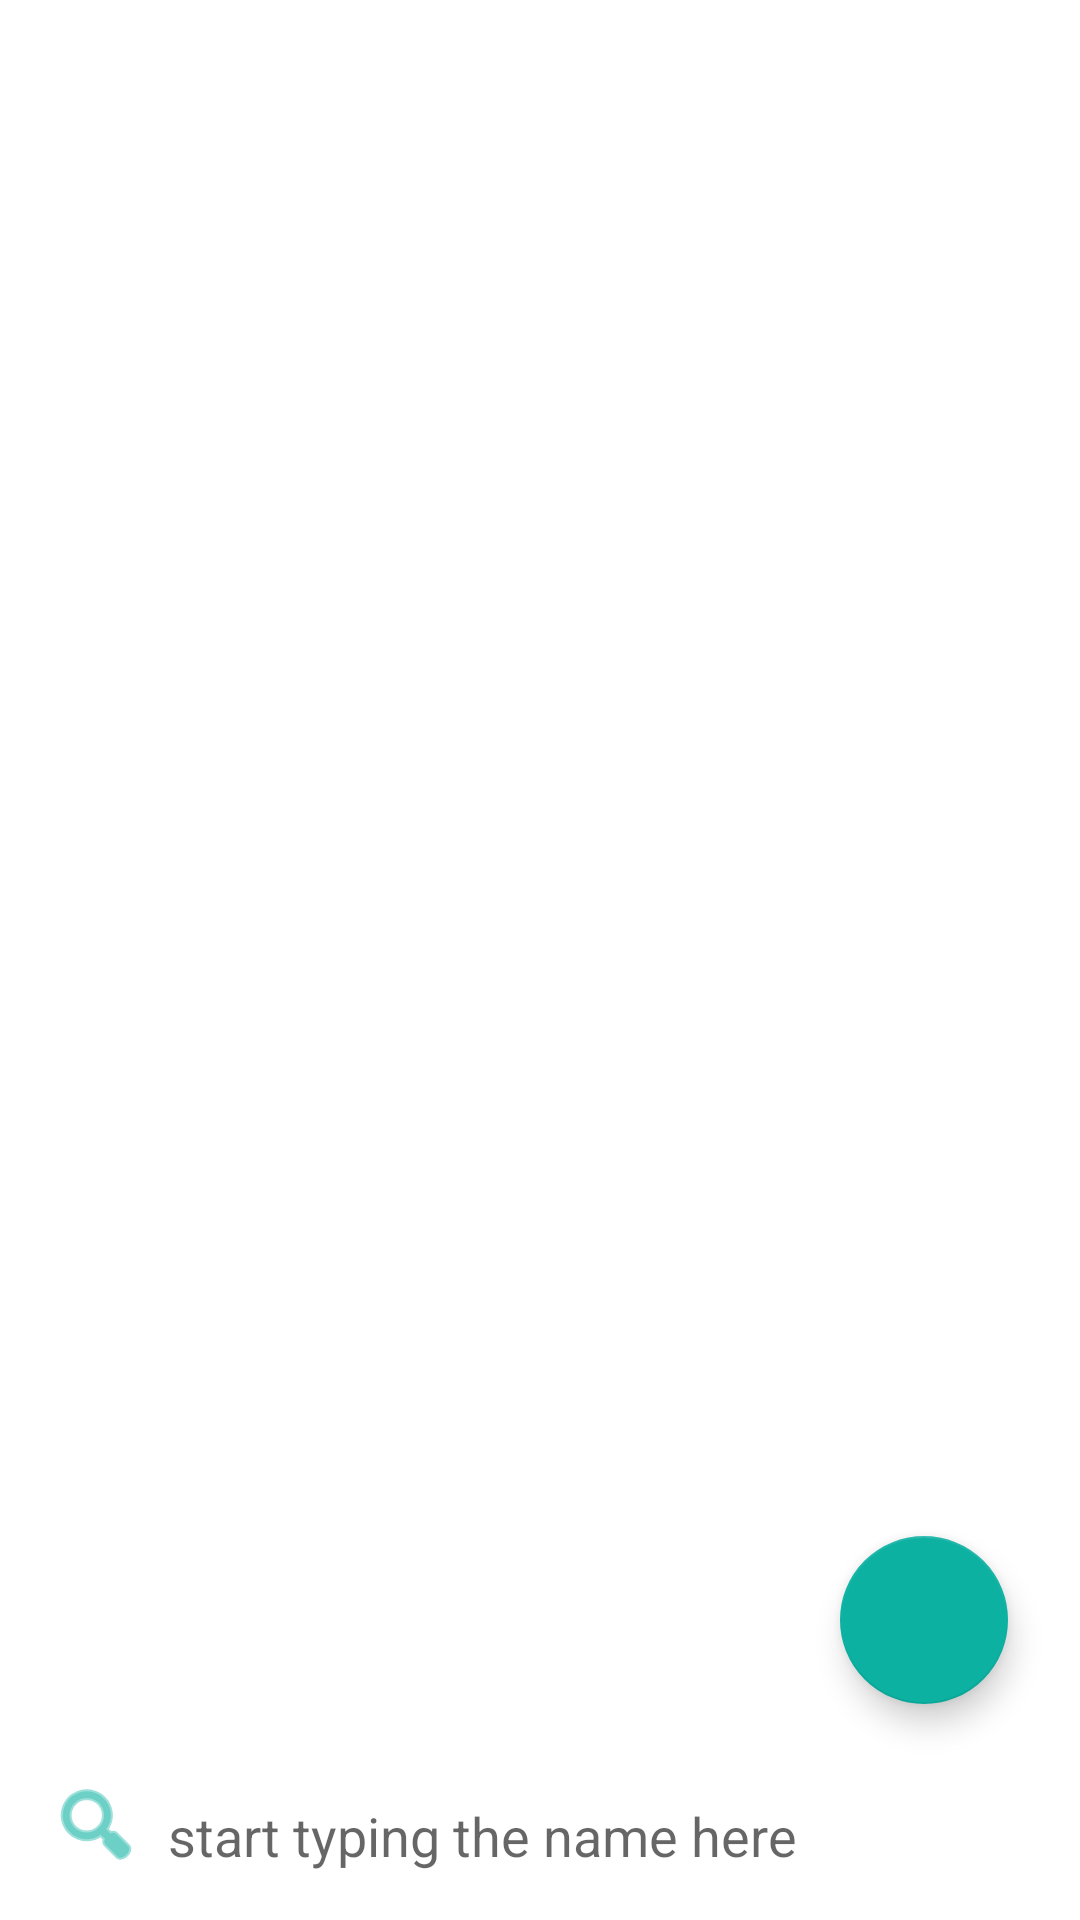

Locate icon controls on the screen. Image size 1080*1920, boxes as (x1, y1, x2, y2).
search: (60, 1789, 132, 1860)
